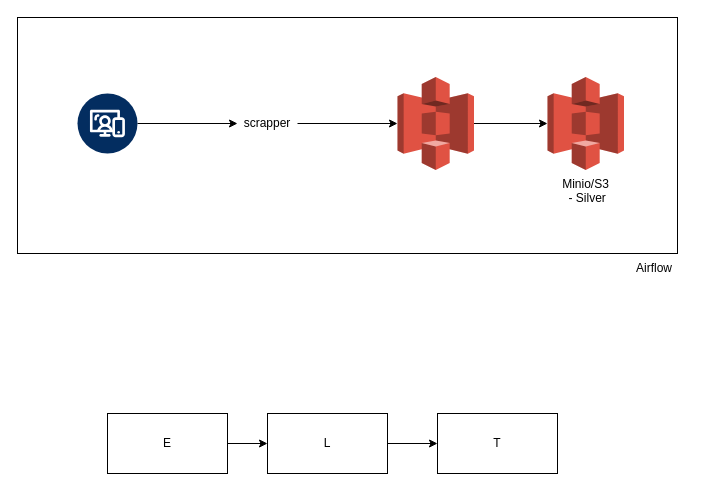
This 701x491 diagram has some shape labels left out. Each missing label, with the centre of its shape:
"Minio/S3 - Bronze" goes at point 435,123.
"whale-alert (ballenas)" goes at point 107,123.
